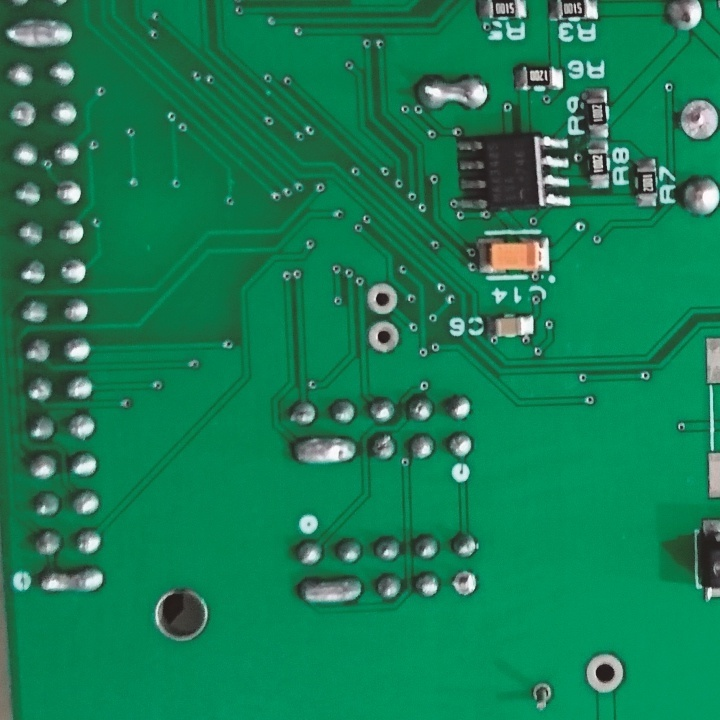F: (580, 652, 631, 698), (676, 96, 720, 144), (361, 280, 402, 319), (366, 320, 402, 356), (526, 678, 555, 712), (59, 256, 88, 289), (7, 102, 40, 130), (55, 181, 84, 208), (454, 569, 480, 598)
P: (413, 74, 491, 113), (1, 18, 77, 52), (297, 577, 367, 609), (288, 435, 360, 466), (43, 569, 110, 598)
